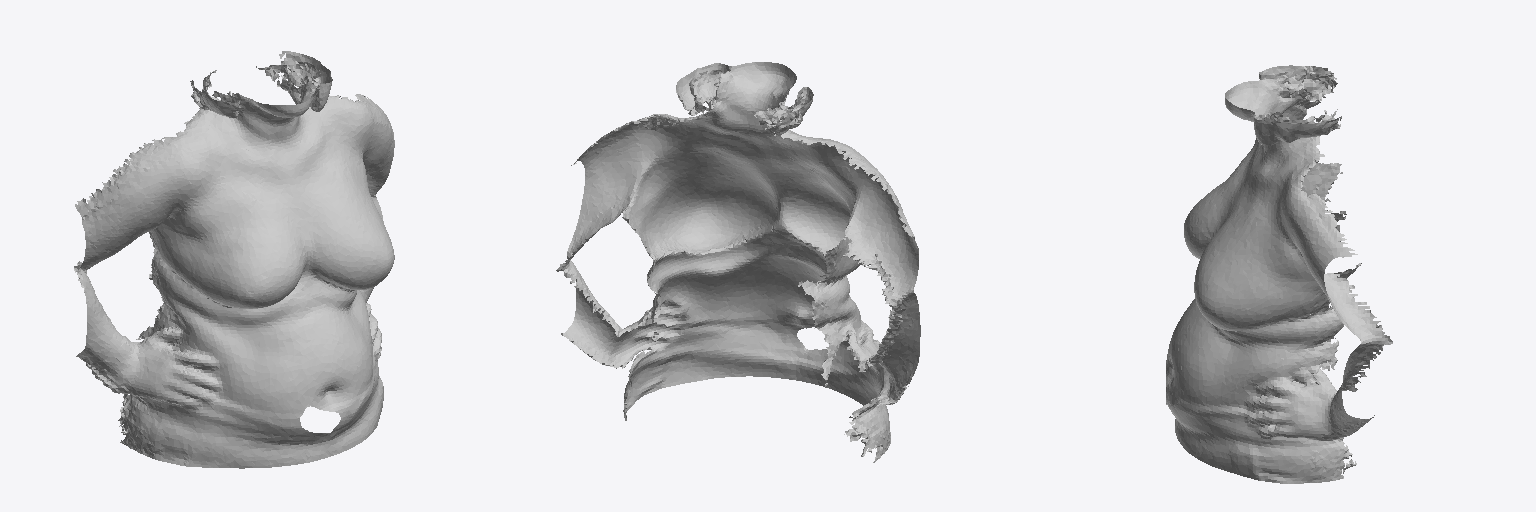
The model's file is clean_target_closed_holes.obj.
3 renders of one model, left to right at view 1: azimuth 30°, elevation 25°; view 2: azimuth 150°, elevation 25°; view 3: azimuth 270°, elevation 25°, orthographic.
Size of the model in its own units: 0.5817 by 0.5816 by 0.357.